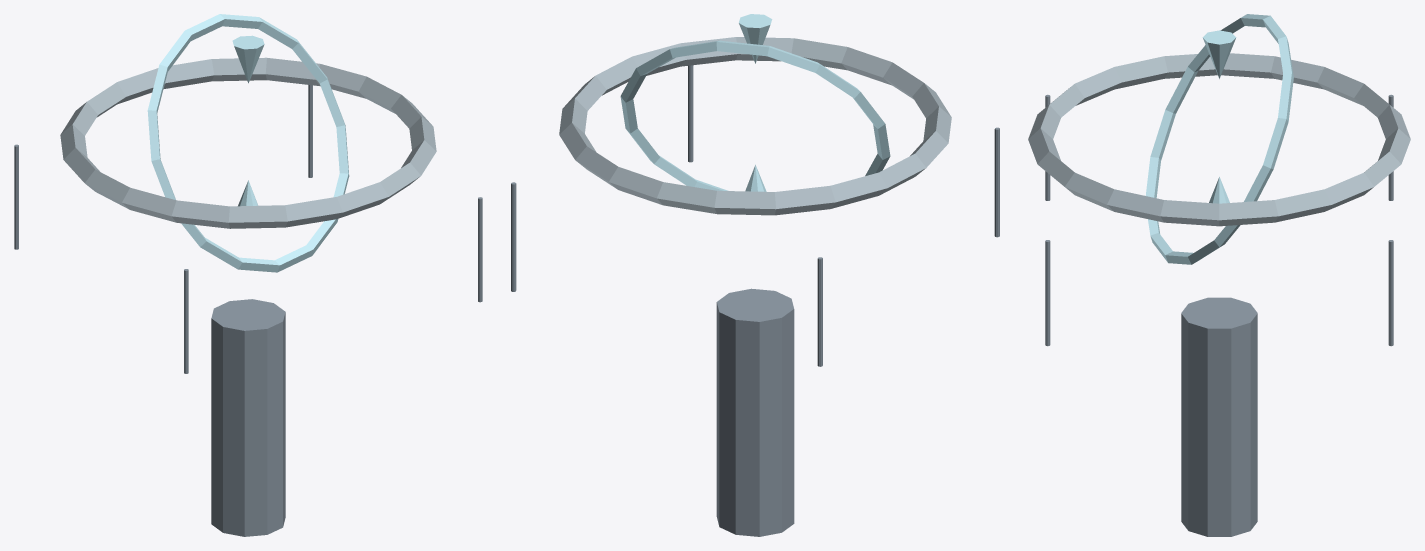
File: Tool_ChronoCollector.fbx
3 views of the same model, side by side, from view 1: azimuth 30°, elevation 25°; view 2: azimuth 150°, elevation 25°; view 3: azimuth 270°, elevation 25° (orthographic). The views are drawn at different scales.
Parts seen in each view (by area): view 1: Chrono_Handle, Chrono_OuterRing, Chrono_InnerRing, Chrono_CoreUpper; view 2: Chrono_Handle, Chrono_OuterRing, Chrono_InnerRing, Chrono_CoreUpper, Chrono_Prong2, Chrono_Prong1, Chrono_Prong3, Chrono_Prong4; view 3: Chrono_Handle, Chrono_OuterRing, Chrono_InnerRing, Chrono_CoreUpper, Chrono_Prong1, Chrono_Prong4.
Part boxes in pixels (x1,y1,x2,y2): Chrono_Handle: [211, 299, 285, 536]; Chrono_OuterRing: [60, 57, 436, 228]; Chrono_InnerRing: [147, 14, 349, 272]; Chrono_CoreUpper: [232, 35, 264, 83]; Chrono_Handle: [716, 288, 794, 536]; Chrono_OuterRing: [559, 37, 951, 215]; Chrono_InnerRing: [620, 40, 890, 190]; Chrono_CoreUpper: [739, 14, 772, 63]; Chrono_Prong2: [817, 257, 822, 366]; Chrono_Prong1: [511, 182, 516, 291]; Chrono_Prong3: [994, 127, 999, 237]; Chrono_Prong4: [688, 65, 693, 162]; Chrono_Handle: [1181, 297, 1257, 536]; Chrono_OuterRing: [1028, 53, 1410, 226]; Chrono_InnerRing: [1145, 14, 1293, 264]; Chrono_CoreUpper: [1202, 30, 1236, 78]; Chrono_Prong1: [1388, 240, 1393, 346]; Chrono_Prong4: [1045, 240, 1050, 346].
Size of the model in its own units: 150 by 210 by 150.
